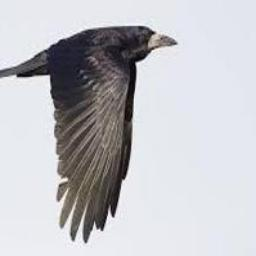Crow: (0, 25, 179, 241)
